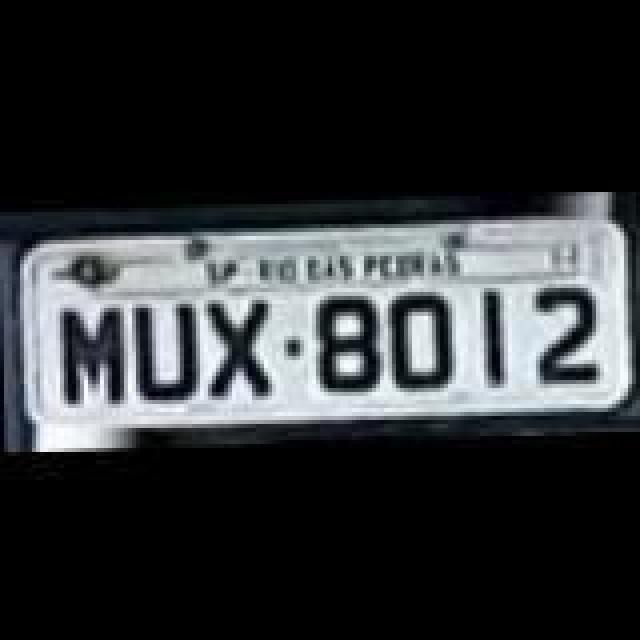1: (470, 282, 514, 390)
2: (526, 284, 602, 388)
8: (306, 292, 382, 396)
K: (200, 290, 280, 398)
M: (52, 302, 132, 410)
O: (386, 286, 454, 394)
U: (128, 296, 208, 408)
